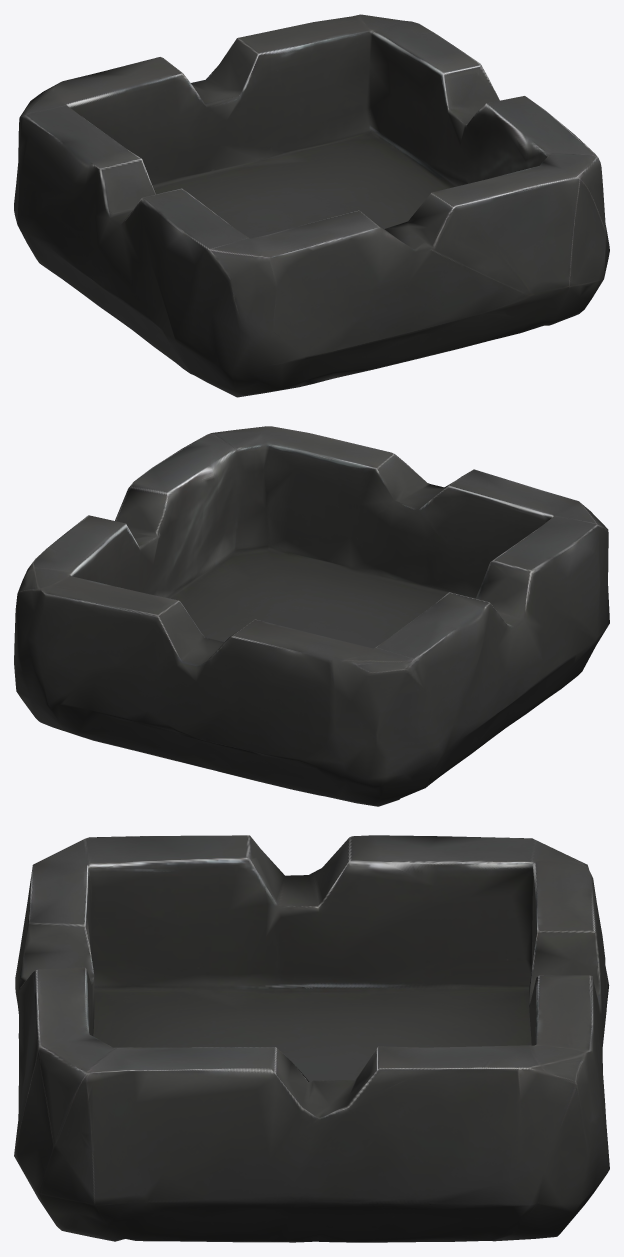
File: geometric+ashtray+3d+model.glb
3 views of the same model, one above another, from view 1: azimuth 30°, elevation 25°; view 2: azimuth 150°, elevation 25°; view 3: azimuth 270°, elevation 25° (orthographic). The views are drawn at different scales.
Visible parts, largest first — view 1: tripo_node_99b5c60c-f869-4874-9513-9932dfcb78ef; view 2: tripo_node_99b5c60c-f869-4874-9513-9932dfcb78ef; view 3: tripo_node_99b5c60c-f869-4874-9513-9932dfcb78ef.
Part boxes in pixels (x1,y1,x2,y2): tripo_node_99b5c60c-f869-4874-9513-9932dfcb78ef: [14, 14, 609, 397]; tripo_node_99b5c60c-f869-4874-9513-9932dfcb78ef: [14, 426, 609, 806]; tripo_node_99b5c60c-f869-4874-9513-9932dfcb78ef: [14, 835, 609, 1242].
Size of the model in its own units: 0.999 by 0.3421 by 1.
1 material, 1 textured.
